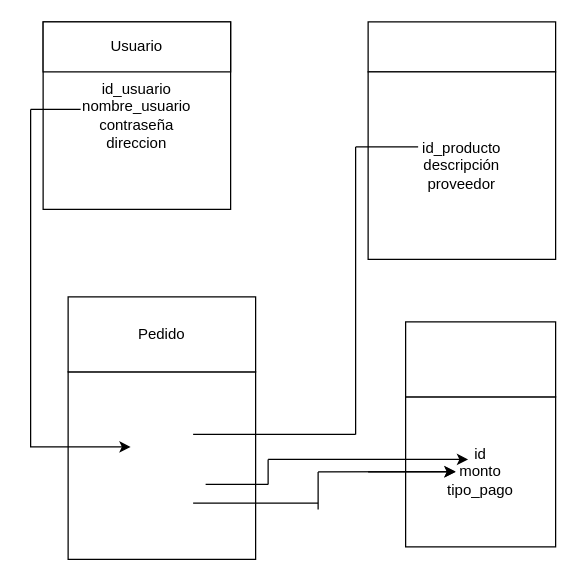
The diagram is 578 pixels wide and 581 high, and some of its shapes have lost their labels. Each missing label, with the centre of its shape:
Factura: [480,359]
producto: [461,46]
producto usuario cantidad id_factura monto: [161,465]
